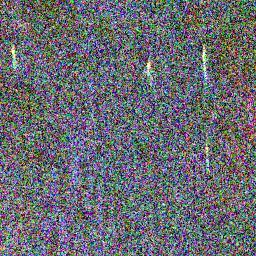Ship: (7, 43, 20, 63), (199, 46, 209, 69), (203, 140, 213, 160), (144, 56, 154, 75)
